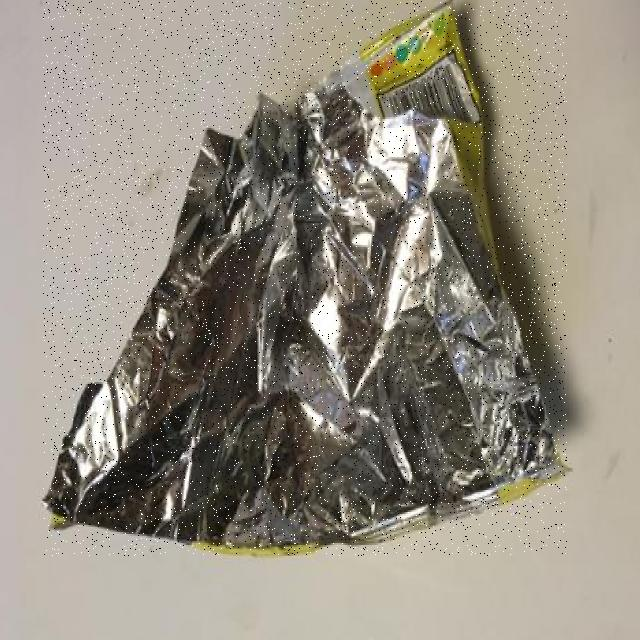metal: (43, 0, 567, 556)
